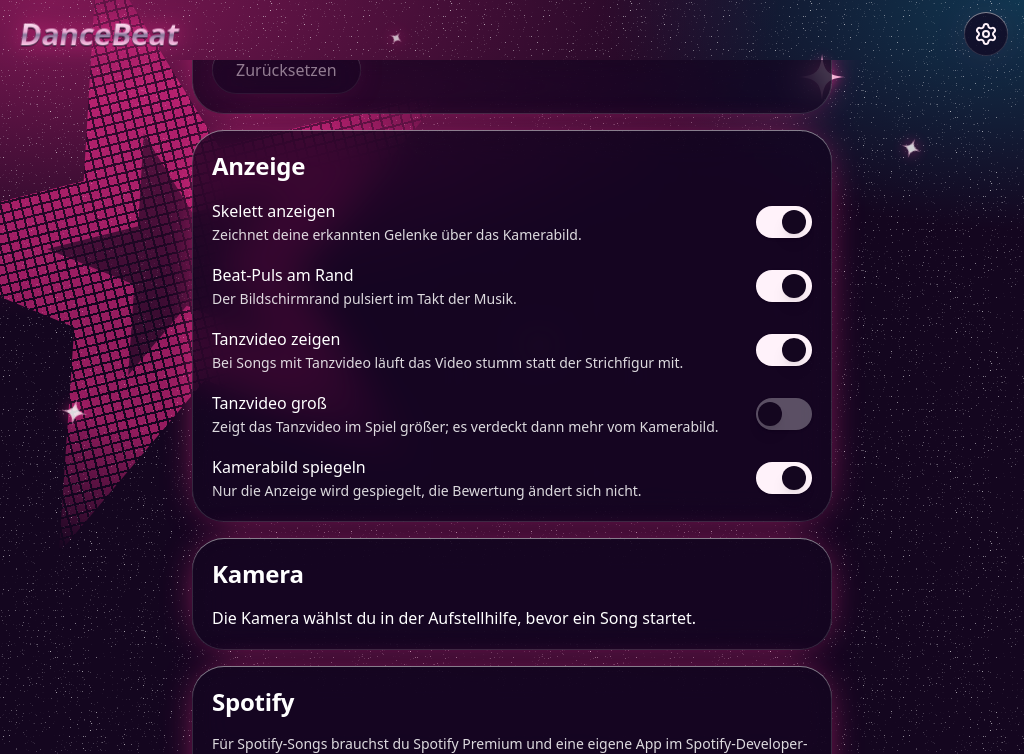
Test: Einstellungen › Tanzvideo groß speichert und ist nur mit Tanzvideo schaltbar
The image size is (1024, 754).
(page scrolled)
Click the switch named "Tanzvideo groß" in the row of "Tanzvideo groß". click: (784, 414)
box: [756,398,812,430]
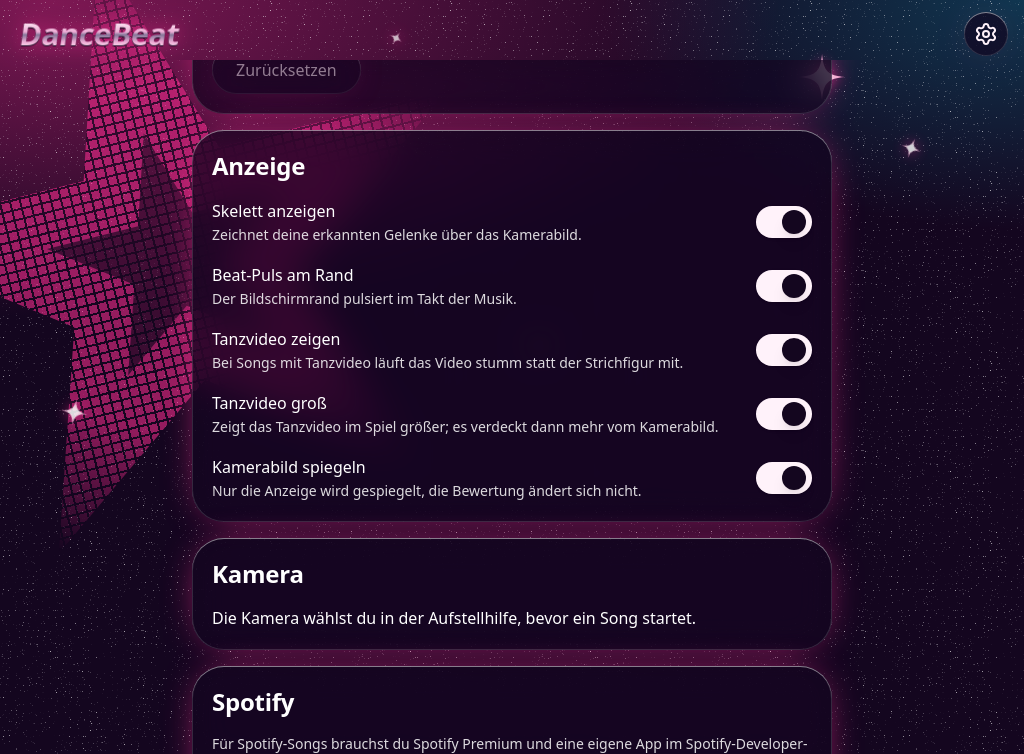
Click the switch named "Tanzvideo zeigen" in the row of "Tanzvideo zeigen". click: (784, 350)
box: [756,334,812,366]
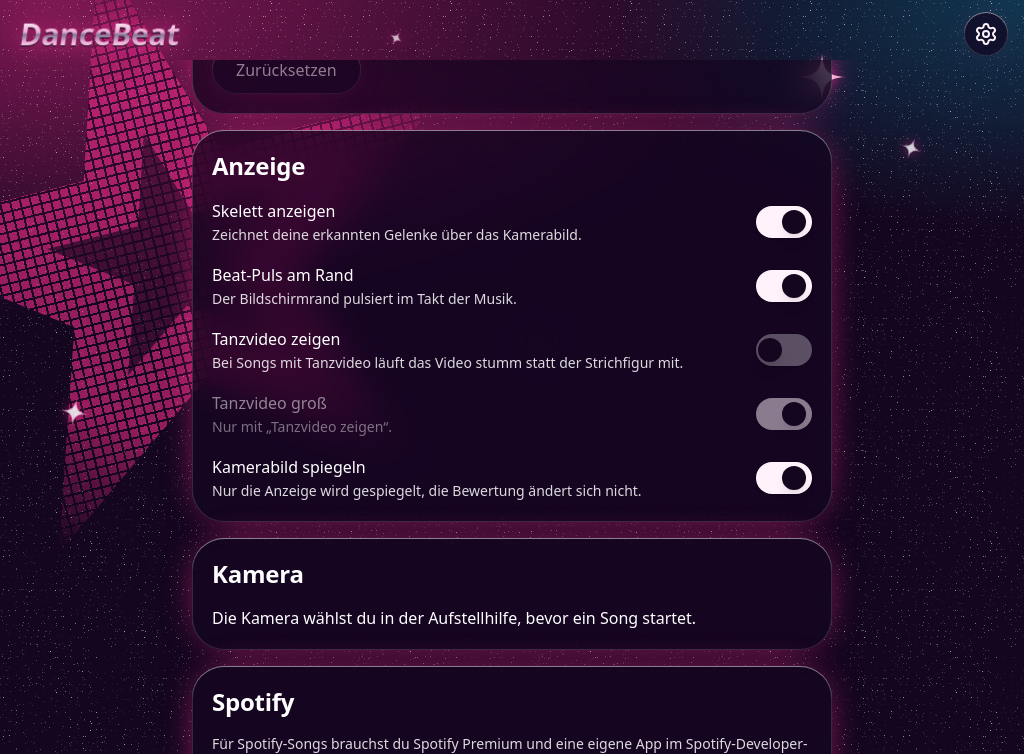
Expected: the switch named "Tanzvideo groß" in the row of "Nur mit „Tanzvideo zeigen“." is disabled, [756,398,812,430]
